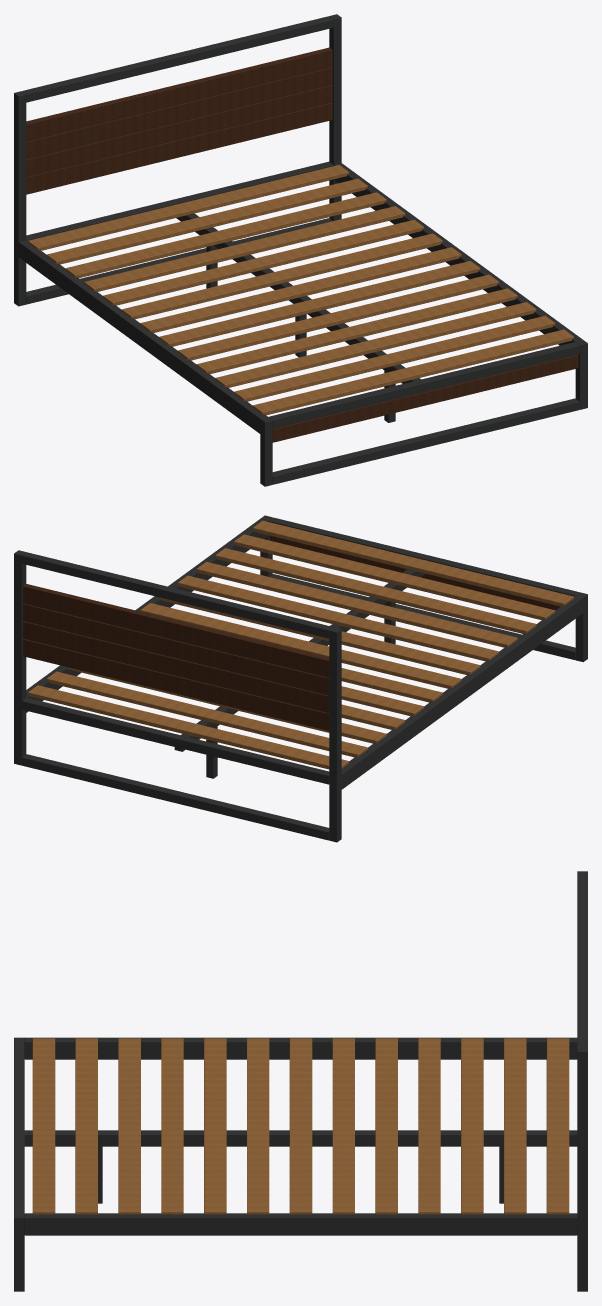
The model's file is zinus-suzanne-queen-bed.glb.
The picture shows the model from 3 angles, top to bottom: view 1: azimuth 30°, elevation 25°; view 2: azimuth 150°, elevation 25°; view 3: azimuth 270°, elevation 25°; orthographic projection. The views are drawn at different scales.
Visible parts, largest first — view 1: Chestnut headboard horizontal plank.003, Chestnut headboard horizontal plank.002, Chestnut headboard horizontal plank, Chestnut headboard horizontal plank.001, Full length side rail, Foot wood inset, Exposed mattress support slat.010, Exposed mattress support slat.003, Exposed mattress support slat.005, Exposed mattress support slat.006, Exposed mattress support slat.007, Exposed mattress support slat.001 (+18 smaller); view 2: Chestnut headboard horizontal plank.003, Chestnut headboard horizontal plank.002, Chestnut headboard horizontal plank.001, Chestnut headboard horizontal plank, Full length side rail, Exposed mattress support slat.001, Exposed mattress support slat.002, Exposed mattress support slat.003, Exposed mattress support slat.004, Exposed mattress support slat, Mattress end support.001, Exposed mattress support slat.012 (+17 smaller); view 3: Full length side rail.001, Full length side rail, Center steel mattress support, Exposed mattress support slat.006, Exposed mattress support slat, Exposed mattress support slat.012, Exposed mattress support slat.001, Exposed mattress support slat.002, Exposed mattress support slat.003, Exposed mattress support slat.004, Exposed mattress support slat.008, Exposed mattress support slat.009 (+8 smaller).
Part boxes in pixels (x1,y1,x2,y2): Chestnut headboard horizontal plank.003: (26, 47, 332, 141); Chestnut headboard horizontal plank.002: (26, 67, 332, 159); Chestnut headboard horizontal plank: (26, 102, 332, 194); Chestnut headboard horizontal plank.001: (26, 85, 332, 176); Full length side rail: (18, 240, 267, 433); Foot wood inset: (272, 354, 578, 442); Exposed mattress support slat.010: (65, 192, 386, 277); Exposed mattress support slat.003: (196, 288, 517, 373); Exposed mattress support slat.005: (159, 261, 480, 346); Exposed mattress support slat.006: (140, 247, 461, 332); Exposed mattress support slat.007: (121, 233, 442, 319); Exposed mattress support slat.001: (234, 315, 555, 401); Chestnut headboard horizontal plank.003: (23, 584, 329, 677); Chestnut headboard horizontal plank.002: (23, 603, 329, 695); Chestnut headboard horizontal plank.001: (23, 621, 329, 712); Chestnut headboard horizontal plank: (23, 638, 329, 730); Full length side rail: (341, 596, 583, 789); Exposed mattress support slat.001: (234, 534, 555, 620); Exposed mattress support slat.002: (215, 548, 536, 633); Exposed mattress support slat.003: (196, 561, 517, 647); Exposed mattress support slat.004: (178, 575, 498, 661); Exposed mattress support slat: (253, 520, 573, 606); Mattress end support.001: (22, 698, 329, 784); Exposed mattress support slat.012: (28, 685, 348, 769); Full length side rail.001: (24, 1213, 577, 1235); Full length side rail: (24, 1037, 577, 1059); Center steel mattress support: (24, 1130, 577, 1146); Exposed mattress support slat.006: (289, 1038, 312, 1214); Exposed mattress support slat: (32, 1038, 55, 1214); Exposed mattress support slat.012: (546, 1038, 569, 1214); Exposed mattress support slat.001: (75, 1038, 97, 1214); Exposed mattress support slat.002: (118, 1038, 140, 1214); Exposed mattress support slat.003: (161, 1038, 183, 1214); Exposed mattress support slat.004: (204, 1038, 226, 1214); Exposed mattress support slat.008: (375, 1038, 397, 1214); Exposed mattress support slat.009: (418, 1038, 440, 1214).
Bounding box in the file's own units: 1.51 × 0.9398 × 2.03.
Materials: 3 (2 with a texture image).
